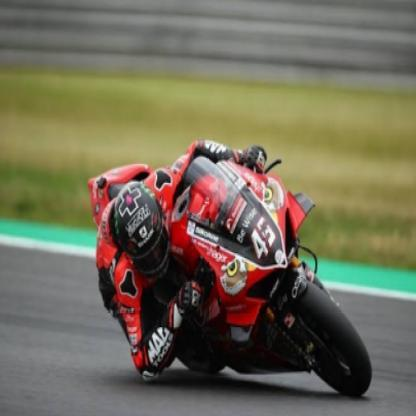helmet: (112, 181, 171, 279)
